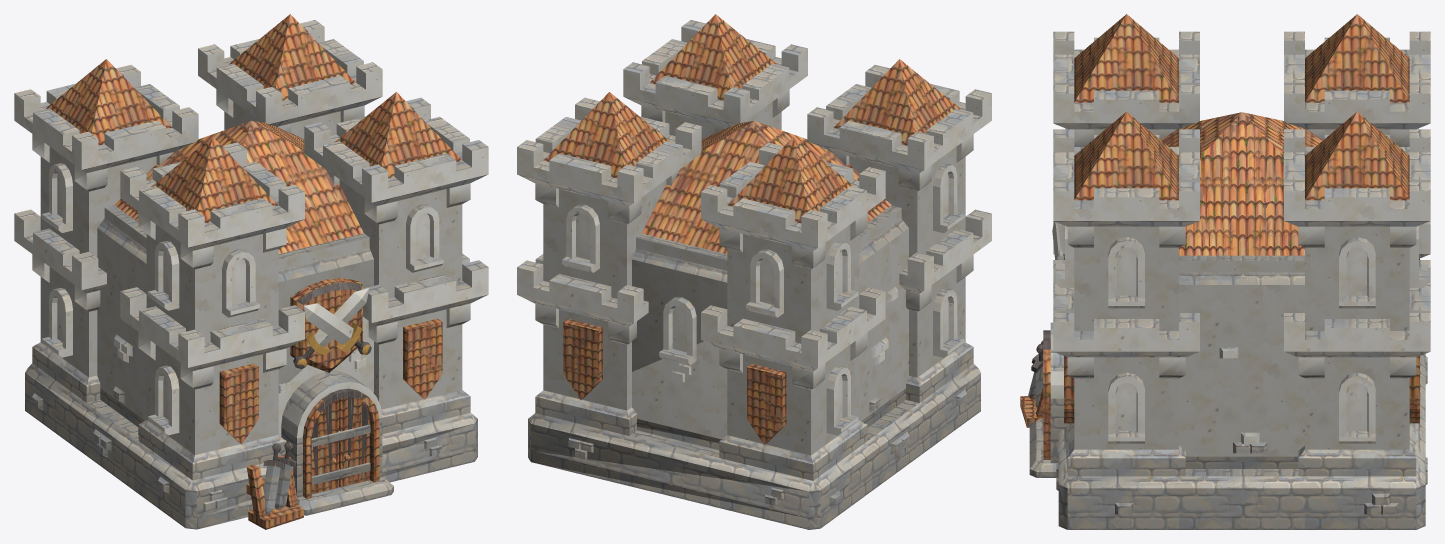
The model's file is building_barracks_red.gltf.
The picture shows the model from 3 angles, left to right: view 1: azimuth 30°, elevation 25°; view 2: azimuth 150°, elevation 25°; view 3: azimuth 270°, elevation 25°; orthographic projection. The views are drawn at different scales.
Parts seen in each view (by area): view 1: building_barracks_red; view 2: building_barracks_red; view 3: building_barracks_red.
Part boxes in pixels (left/top/right/bottom): building_barracks_red: left=14, top=14, right=488, bottom=529; building_barracks_red: left=517, top=14, right=991, bottom=529; building_barracks_red: left=1020, top=14, right=1430, bottom=529.
Bounding box in the file's own units: 1.44 × 1.64 × 1.57.
7 materials, 4 textured.
